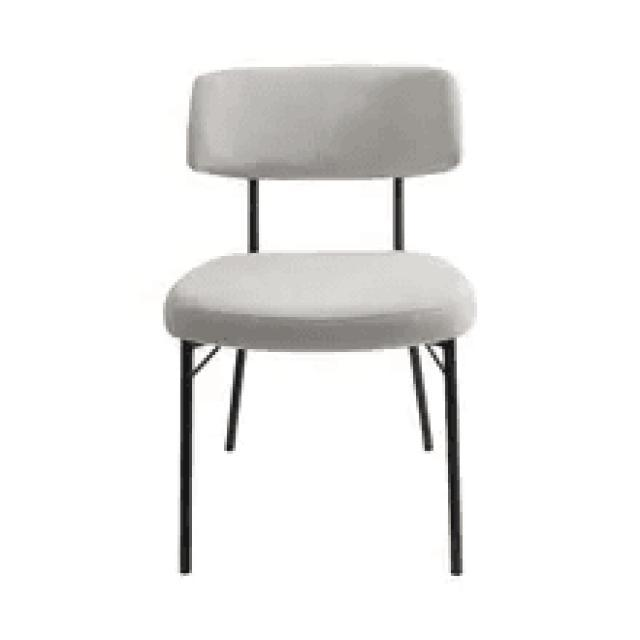chair: (155, 59, 484, 578), (164, 66, 482, 356)
